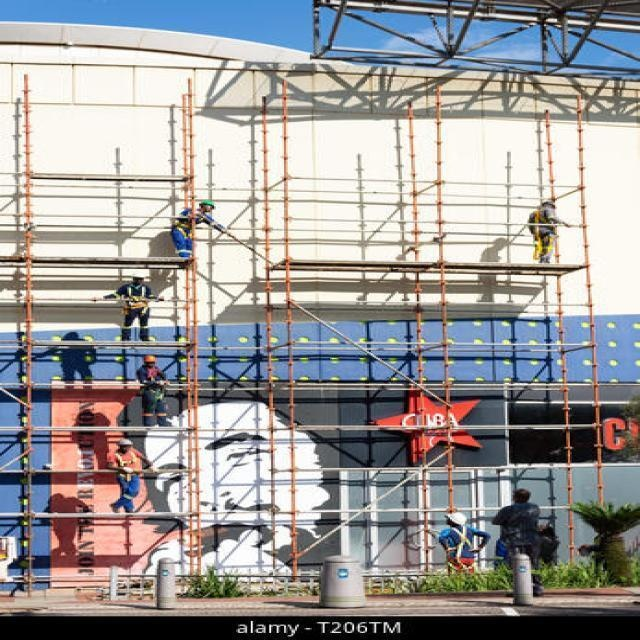Arnes_seguridad: (448, 526, 475, 572), (121, 284, 151, 317), (532, 209, 555, 251), (173, 210, 201, 241), (143, 367, 166, 402), (115, 452, 140, 481)
